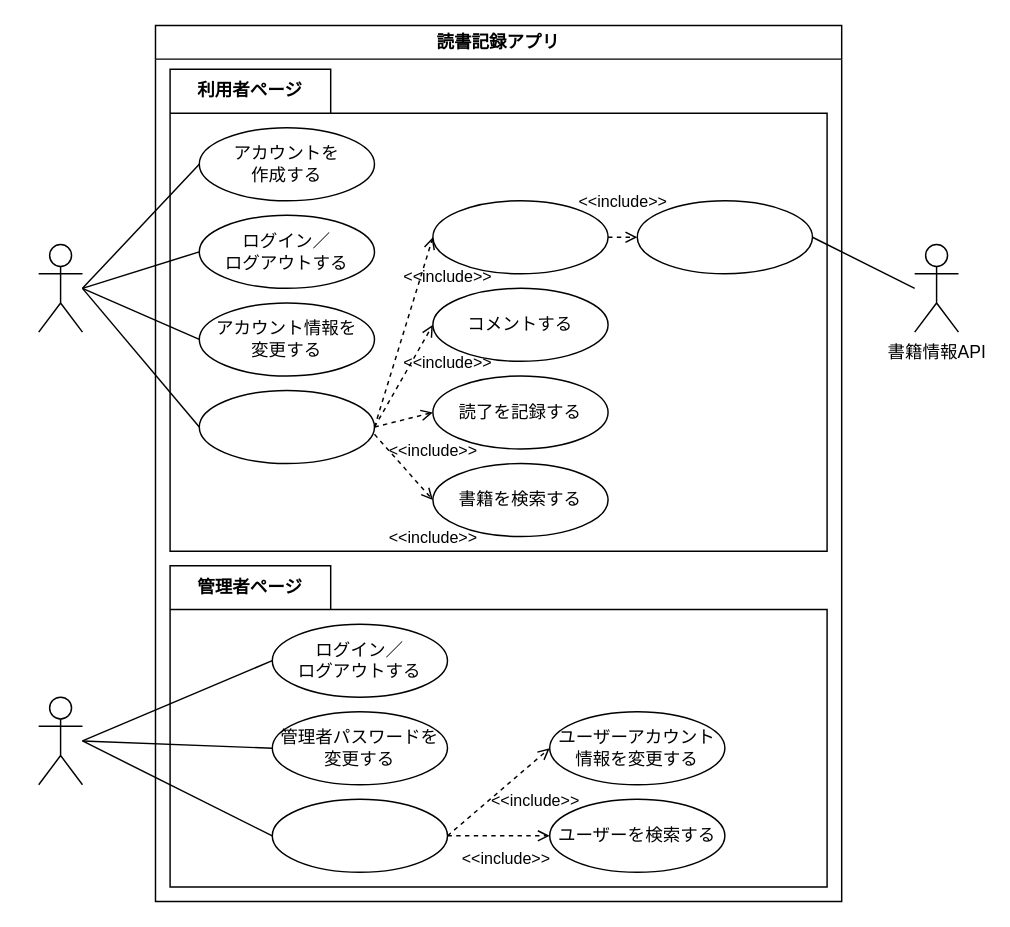
The diagram is 1010 pixels wide and 927 high, and some of its shapes have lost their labels. Here are the shapes that lost their labels. From the top down, the centre of each, then its label:
the point at 519,236: 書籍を 追加・削除する
the point at 724,236: 書籍情報を インターネットから 取得する
the point at 59,287: ユーザー
the point at 286,426: 本棚を管理する
the point at 59,740: 管理者
the point at 359,835: ユーザーを管理する
